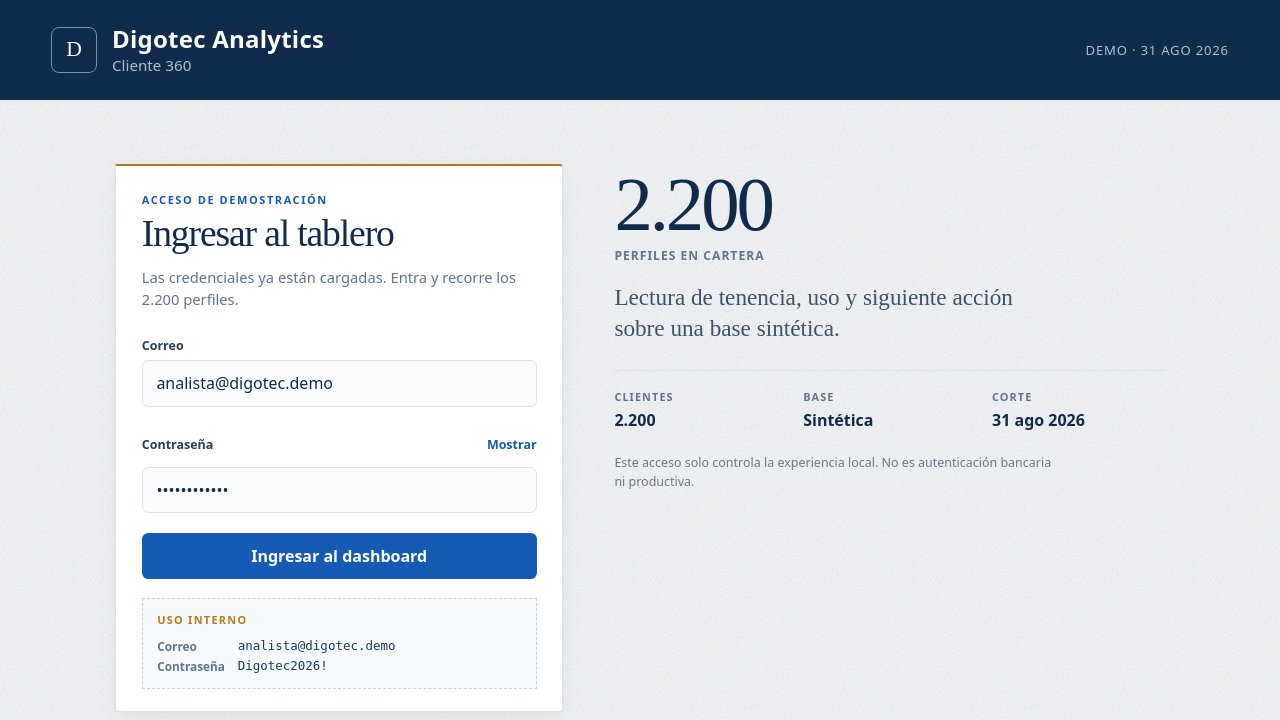
Test case: acceso demostrativo y carga › inicia y cierra sesión guardando solo el marcador de autenticación
Click the button "Ingresar al dashboard". click: (339, 556)
box: [142, 533, 537, 578]
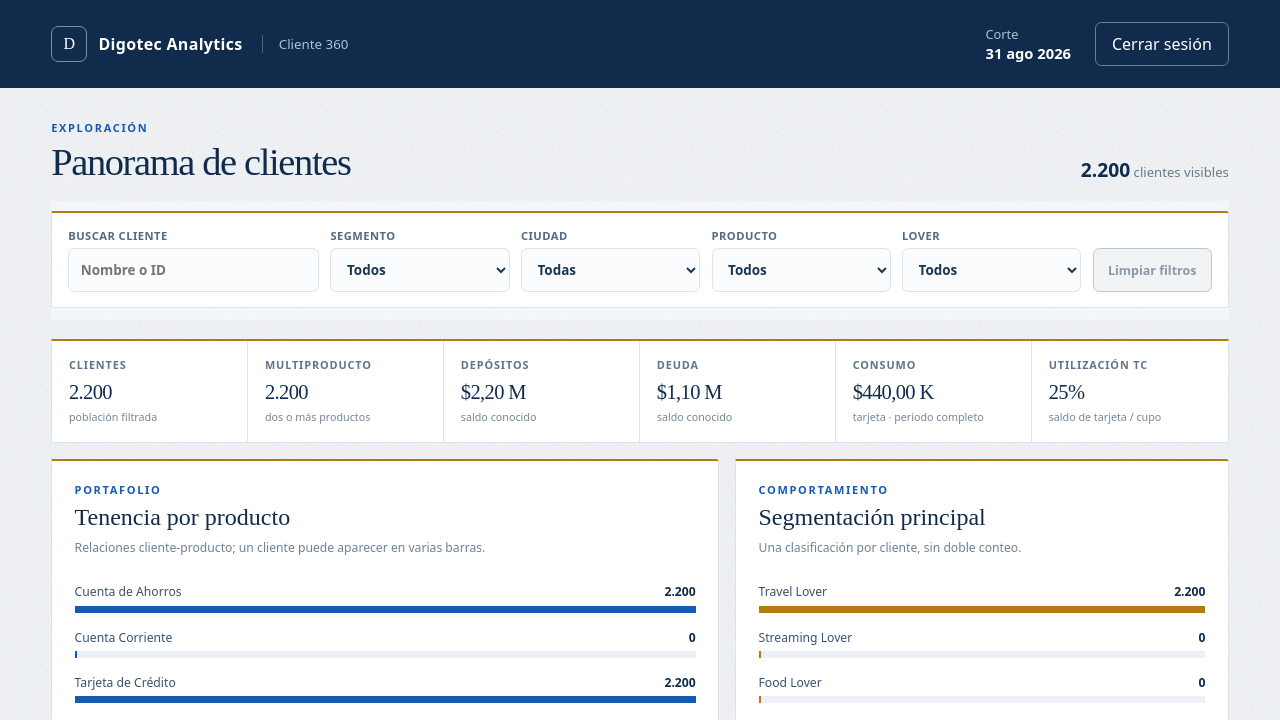
Result: the heading "Panorama de clientes" is shown at [51, 142, 350, 182]
Click the button "Cerrar sesión". click: (1162, 44)
box: [1095, 22, 1229, 66]
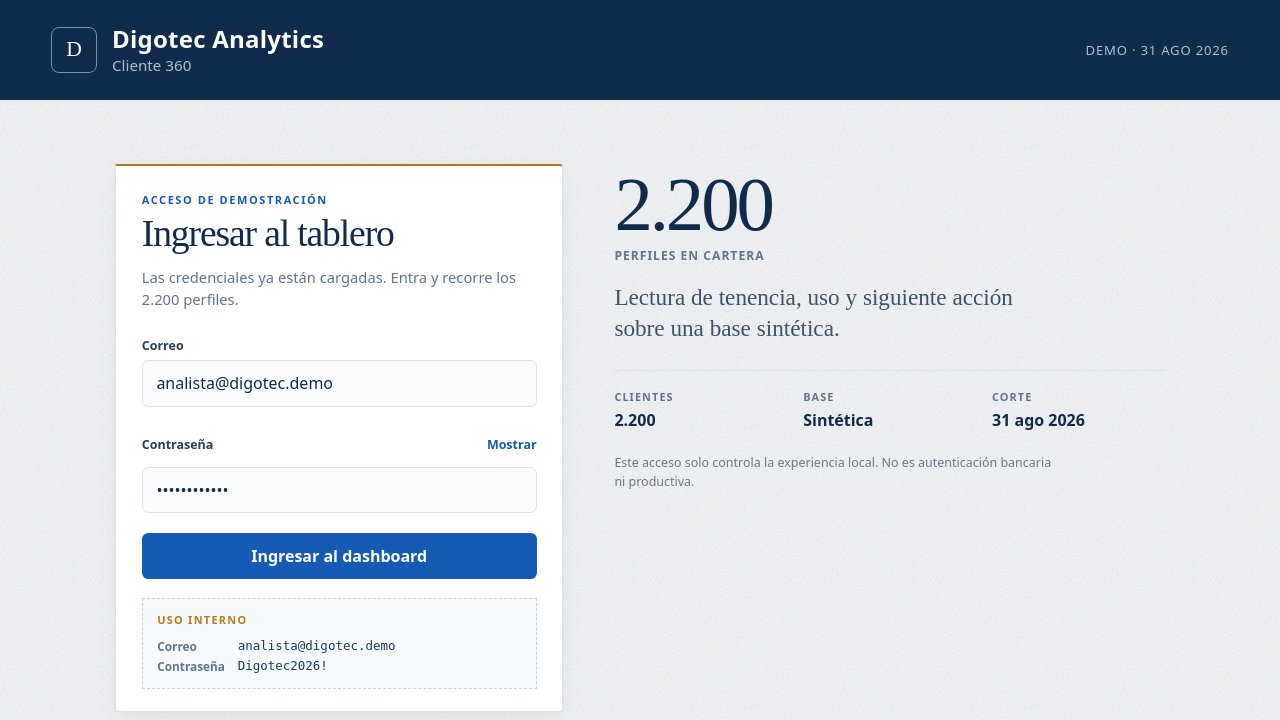
Result: the heading "Ingresar al tablero" is shown at [142, 213, 394, 254]
